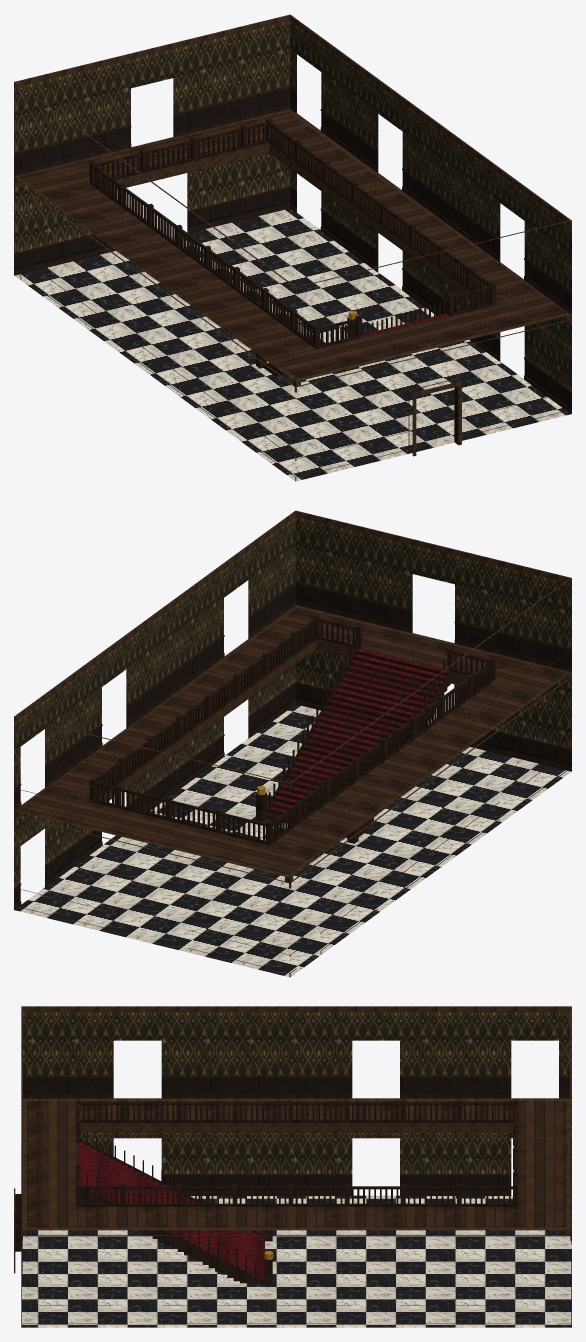
The model's file is manor_hall.glb.
The picture shows the model from 3 angles, top to bottom: view 1: azimuth 30°, elevation 25°; view 2: azimuth 150°, elevation 25°; view 3: azimuth 270°, elevation 25°; orthographic projection. The views are drawn at different scales.
Parts seen in each view (by area): view 1: manor_hall; view 2: manor_hall; view 3: manor_hall.
Part boxes in pixels (x1,y1,x2,y2): manor_hall: (14,14,571,481); manor_hall: (14,510,571,977); manor_hall: (14,1006,571,1327).
Size of the model in its own units: 15.7 by 11 by 28.07.
10 materials, 10 textured.
